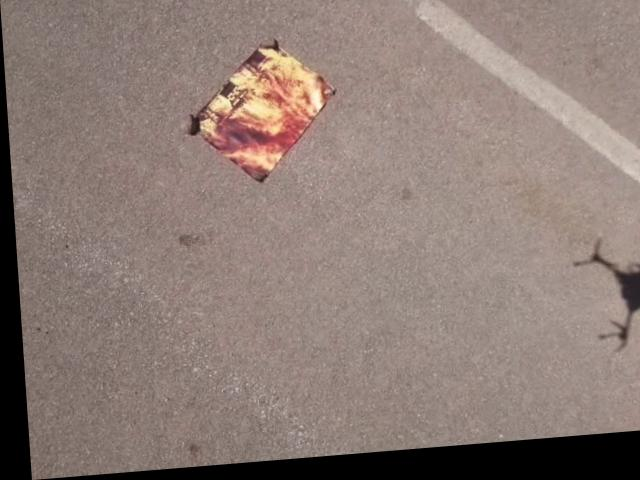fire-poster: (184, 38, 340, 193)
